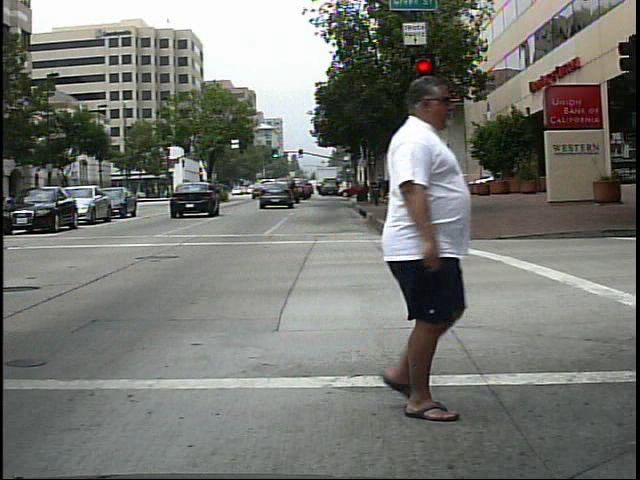person: (332, 75, 490, 424)
